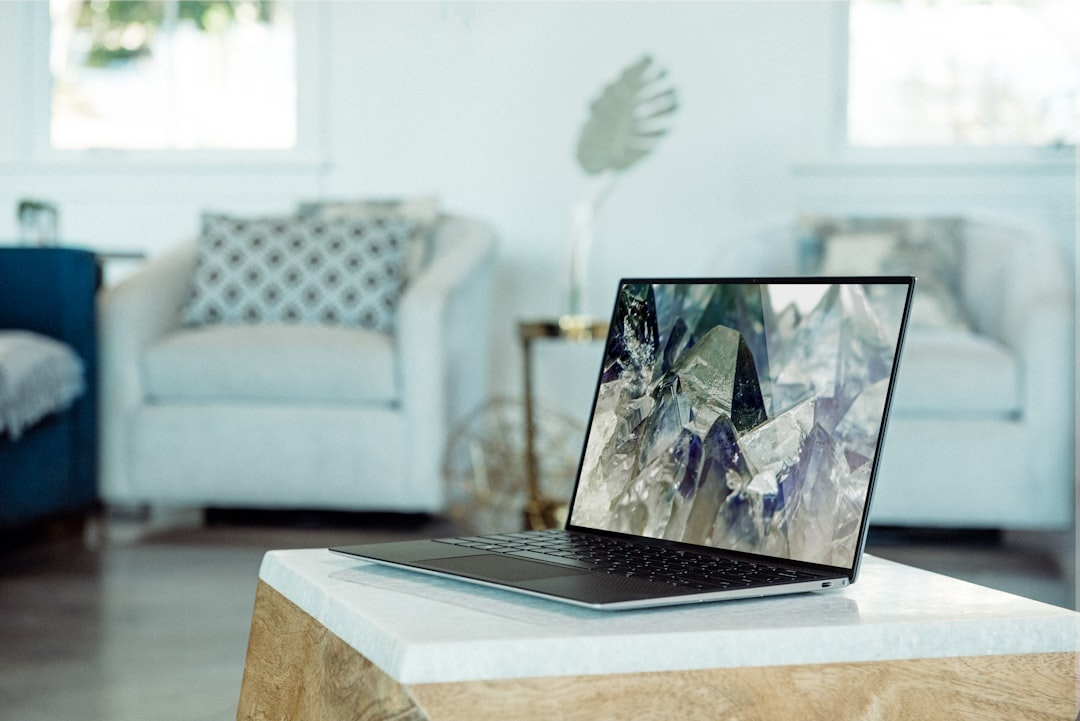laptop: (257, 237, 967, 627)
